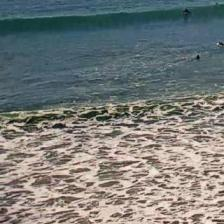surfer: (183, 8, 192, 14), (195, 54, 202, 60), (217, 42, 223, 48), (214, 2, 219, 6)
